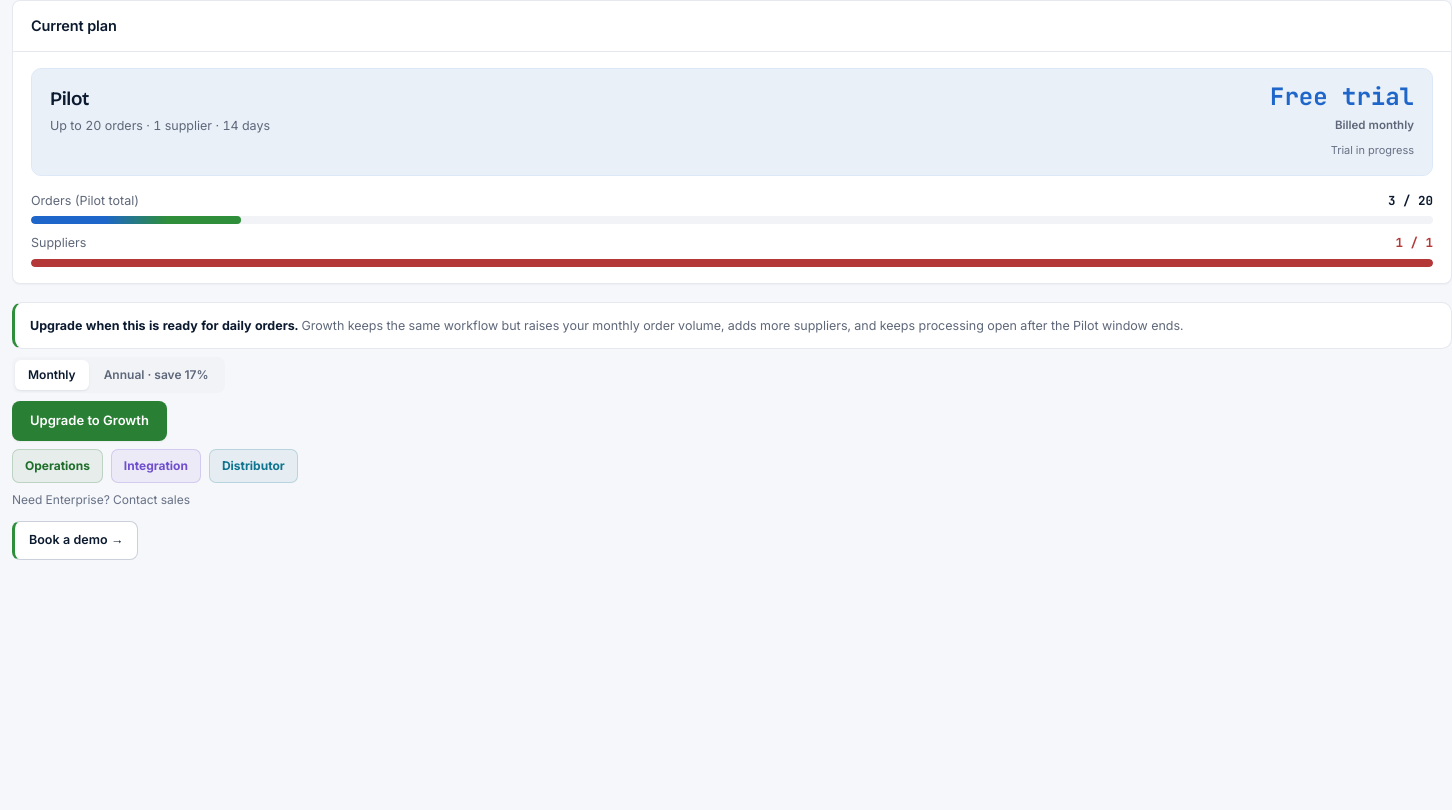
Test: A-F8d — a refused checkout never shows a status line or an internal code › a_plan_gate_reads_as_an_upsell_and_not_as_a_fault
The image size is (1452, 810).
Expected: the text "Current plan" is shown, [31,17,117,34]
Click the button "Upgrade to Growth". click: (89, 421)
box: [12,401,167,441]
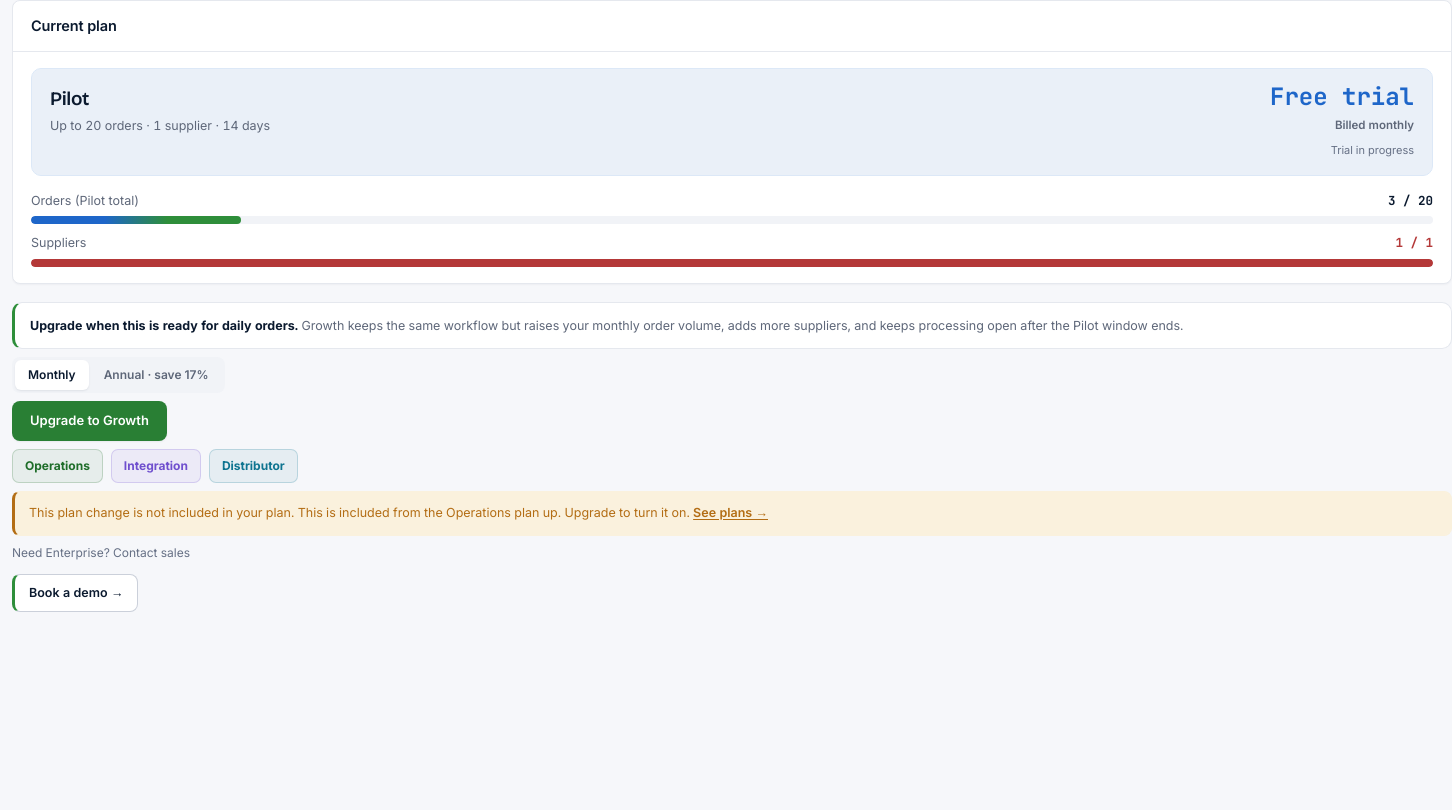
Now the message shows "This plan change is not included in your plan", box [12,491,1451,536]
Now the message shows "Operations", box [298,505,690,520]
